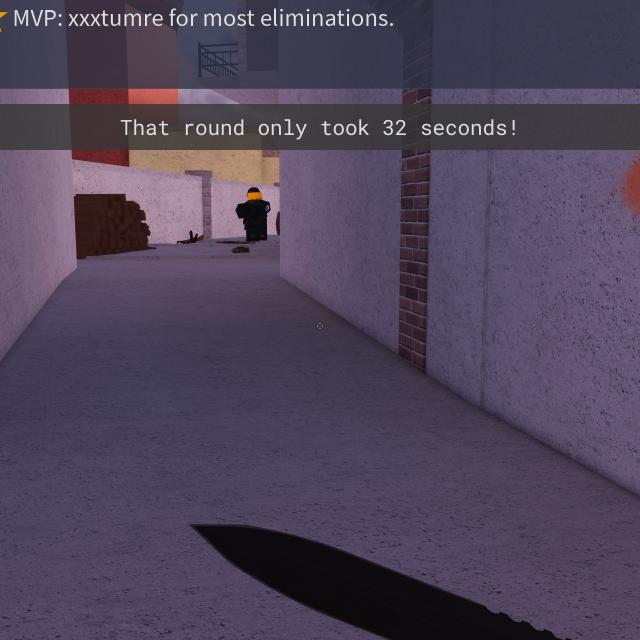Head: (247, 187, 264, 200)
Player: (236, 187, 270, 242)
